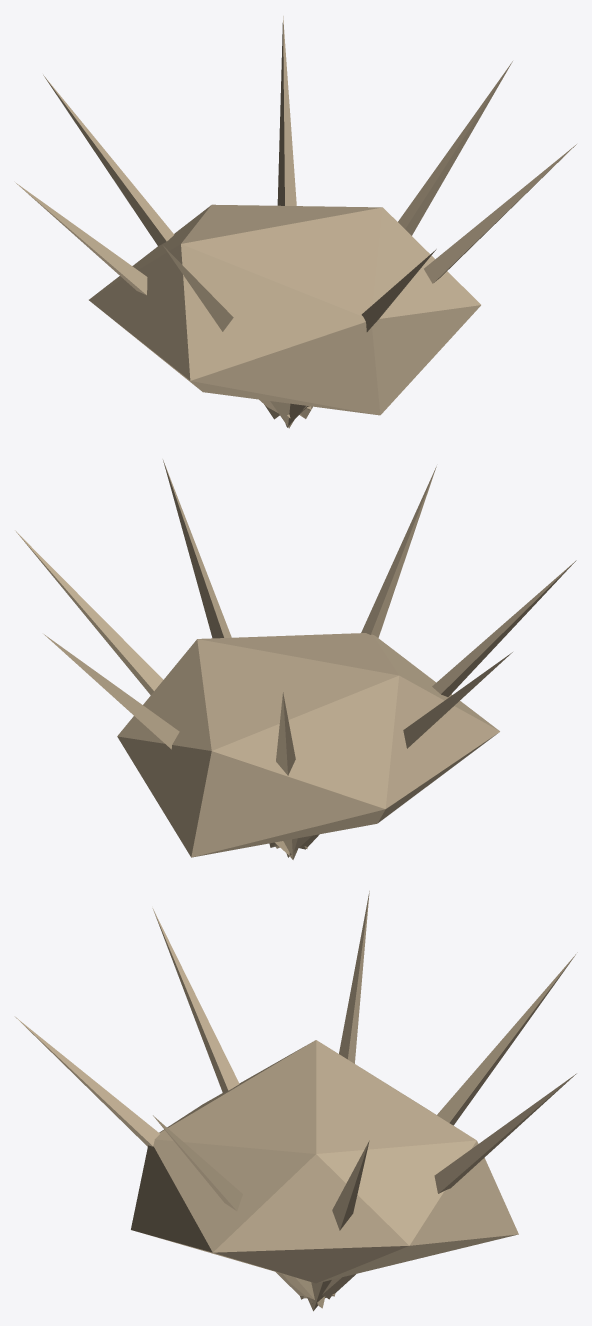
Rendered from bush.gltf.
3 renders of one model, top to bottom at view 1: azimuth 30°, elevation 25°; view 2: azimuth 150°, elevation 25°; view 3: azimuth 270°, elevation 25°, orthographic. The views are drawn at different scales.
Parts seen in each view (by area): view 1: bush; view 2: bush; view 3: bush.
Part boxes in pixels (x1,y1,x2,y2): bush: [15, 16, 576, 428]; bush: [15, 460, 576, 859]; bush: [14, 891, 577, 1311].
Size of the model in its own units: 1.25 by 0.6836 by 1.19.
